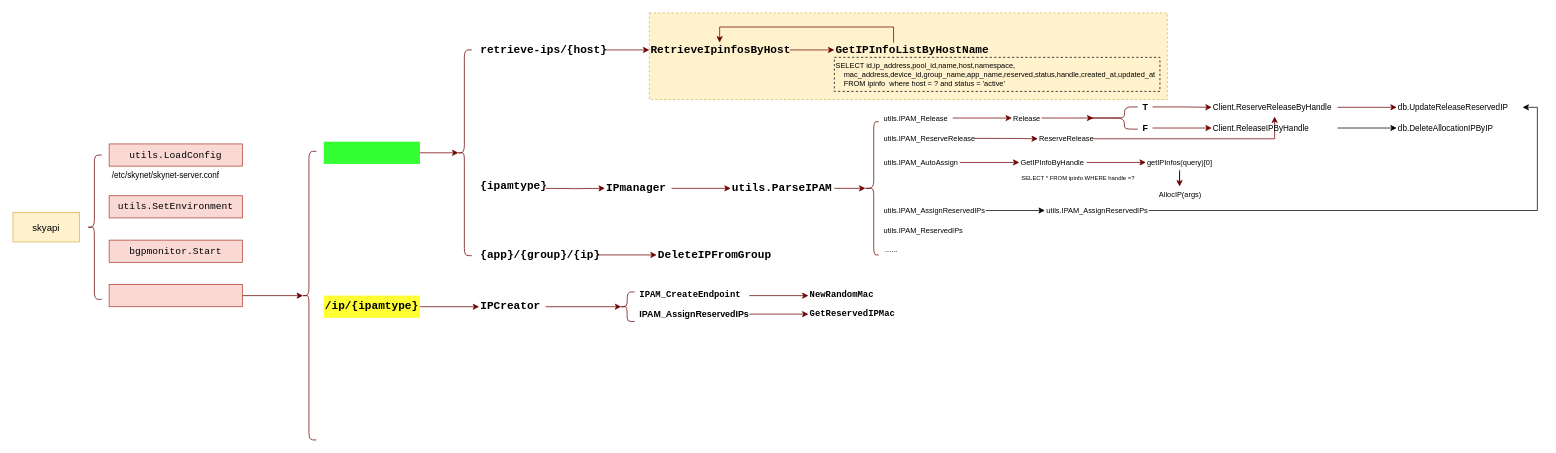
The diagram is 1556 pixels wide and 453 high, and some of its shapes have lost their labels. The centre of each missing label's shape, as x and y in pixels:
http.ListenAndServe: point 175,295
ipam: point 371,152
reserve: point 1111,117
